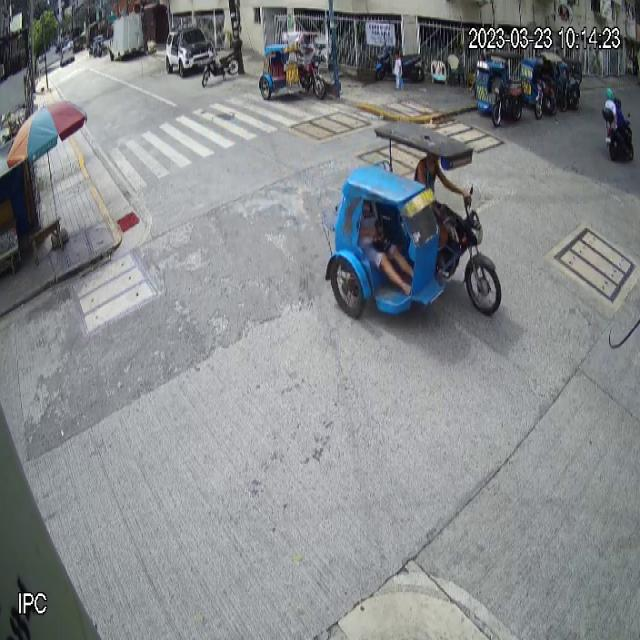Tricycle: (326, 123, 502, 317), (258, 31, 328, 103), (474, 51, 524, 126)
